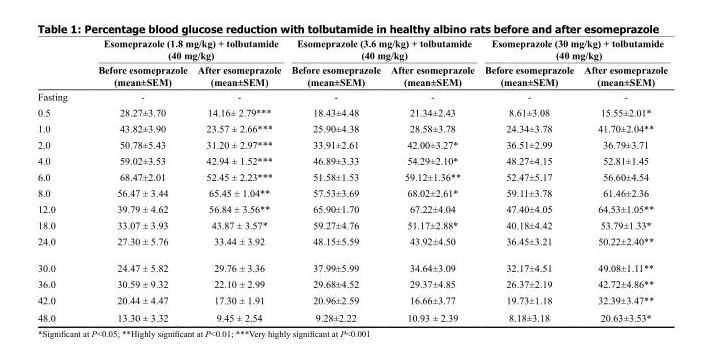table: (37, 37, 667, 323)
table column: (82, 37, 191, 323), (285, 37, 385, 323), (478, 37, 578, 323), (191, 37, 285, 323), (385, 37, 478, 323), (578, 37, 667, 323), (37, 37, 82, 323)
table column header: (37, 37, 667, 88)
table row: (37, 62, 667, 88), (37, 37, 667, 62), (37, 232, 667, 254), (37, 254, 667, 275), (37, 291, 667, 308), (37, 88, 667, 104), (37, 104, 667, 120), (37, 120, 667, 136), (37, 136, 667, 152), (37, 152, 667, 168), (37, 168, 667, 184), (37, 184, 667, 200), (37, 200, 667, 216), (37, 216, 667, 232), (37, 275, 667, 291), (37, 308, 667, 323)
table spanning cell: (82, 37, 285, 62), (285, 37, 478, 62), (478, 37, 667, 62)
